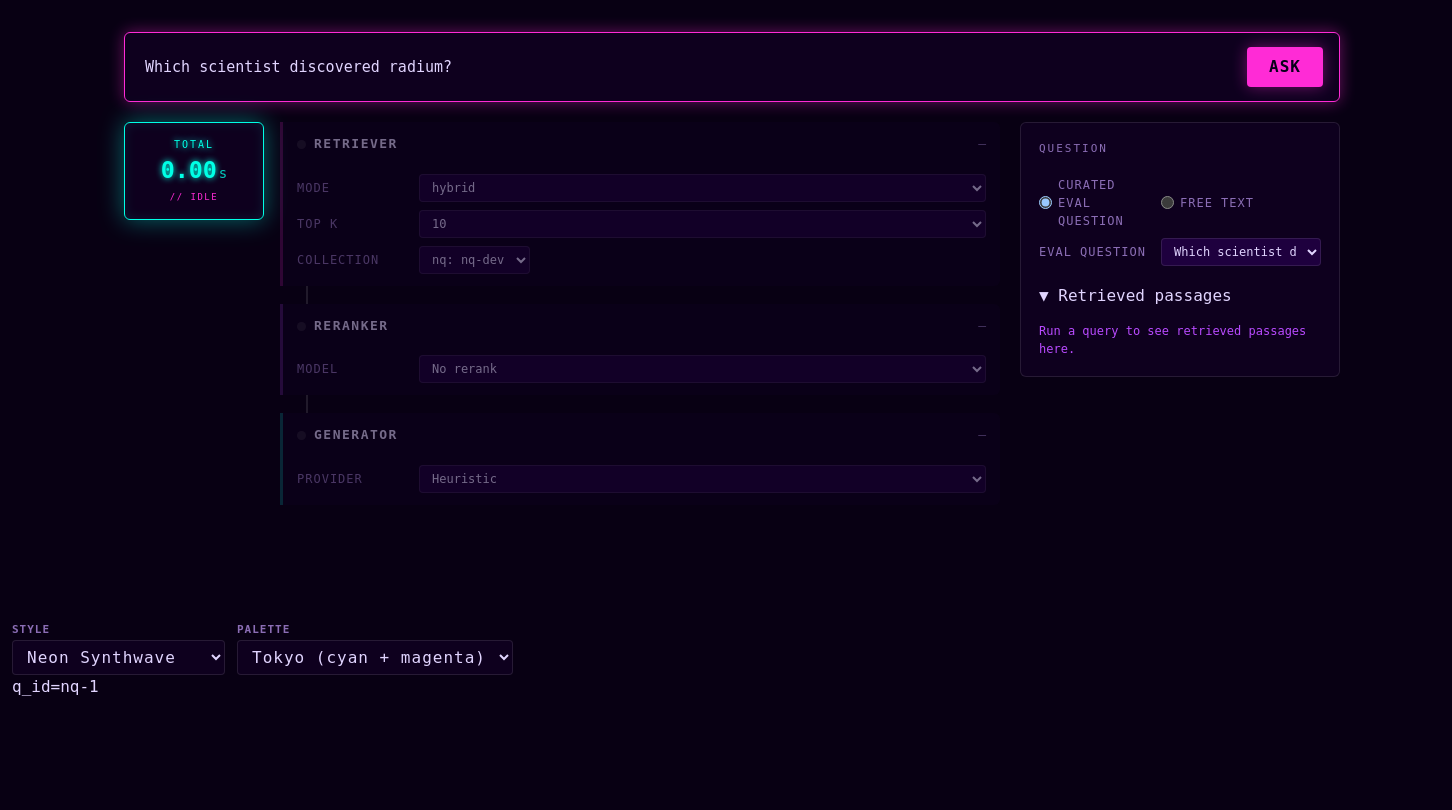
AskPage › submits a query, drives the pipeline, and renders the grounded answer
Click the button "Ask" at (1285, 67), box top-left (1247, 47), bottom-right (1323, 87)
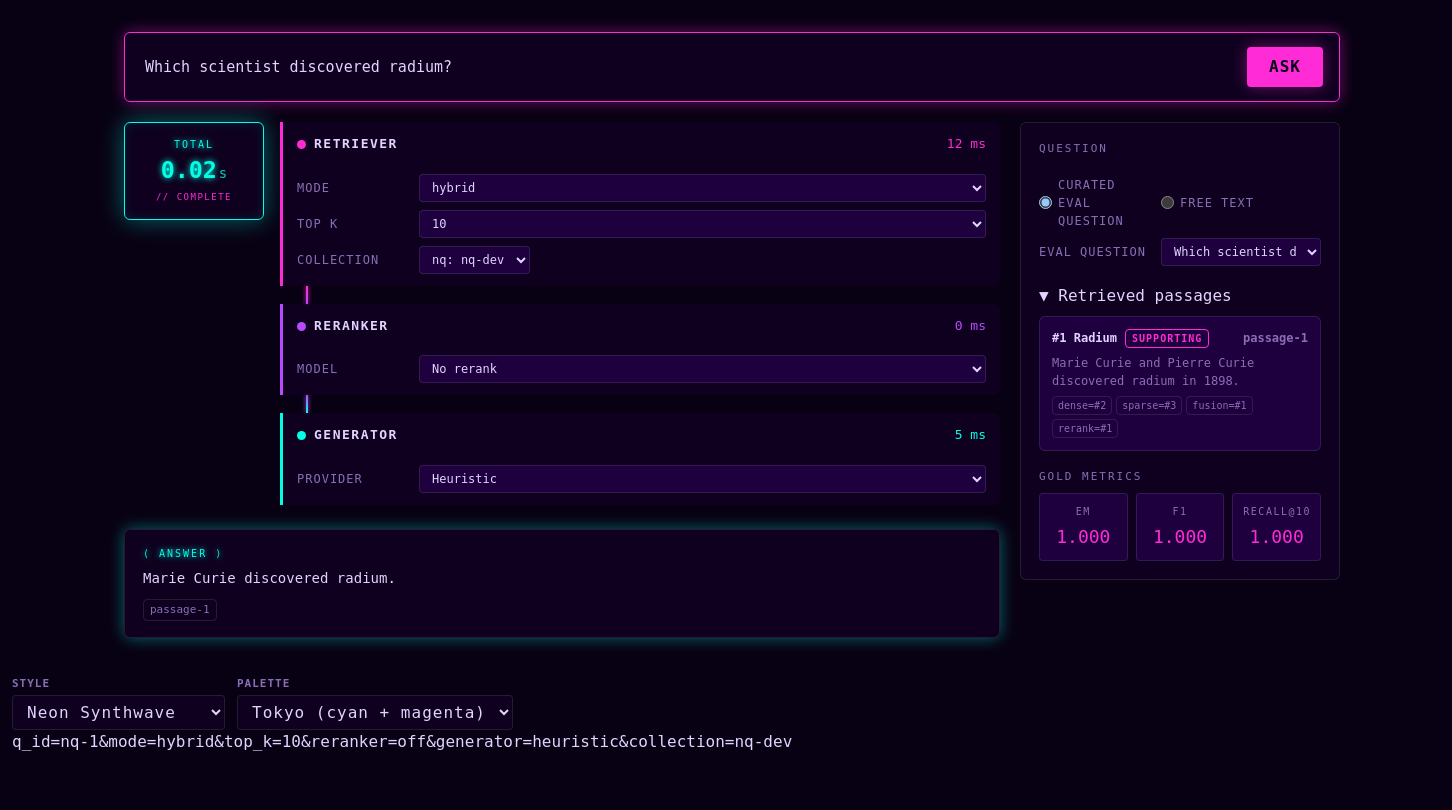
Expected: the text with test id "answer-text" reads "Marie Curie discovered radium.", top-left (143, 570), bottom-right (396, 586)
